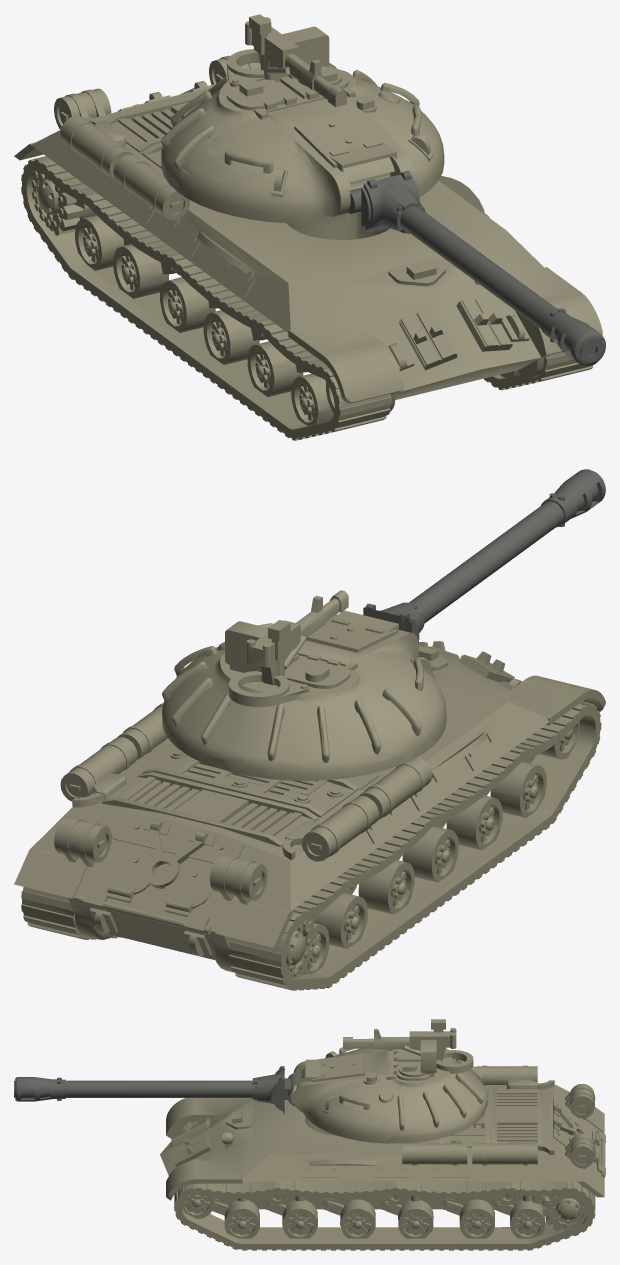
The model's file is is3_panzerfactory.glb.
The picture shows the model from 3 angles, top to bottom: view 1: azimuth 30°, elevation 25°; view 2: azimuth 150°, elevation 25°; view 3: azimuth 270°, elevation 25°; orthographic projection. The views are drawn at different scales.
Parts seen in each view (by area): view 1: hull, turret, gun; view 2: hull, turret, gun; view 3: hull, turret, gun.
Boxes of the visible parts, x1,y1,x2,y2 form: hull: (14, 55, 602, 440); turret: (161, 14, 444, 239); gun: (348, 171, 605, 366); hull: (14, 641, 605, 990); turret: (162, 590, 446, 780); gun: (363, 469, 605, 642); hull: (160, 1065, 605, 1250); turret: (291, 1019, 487, 1143); gun: (14, 1066, 301, 1114).
Size of the model in its own units: 3.17 by 3.16 by 9.16.
